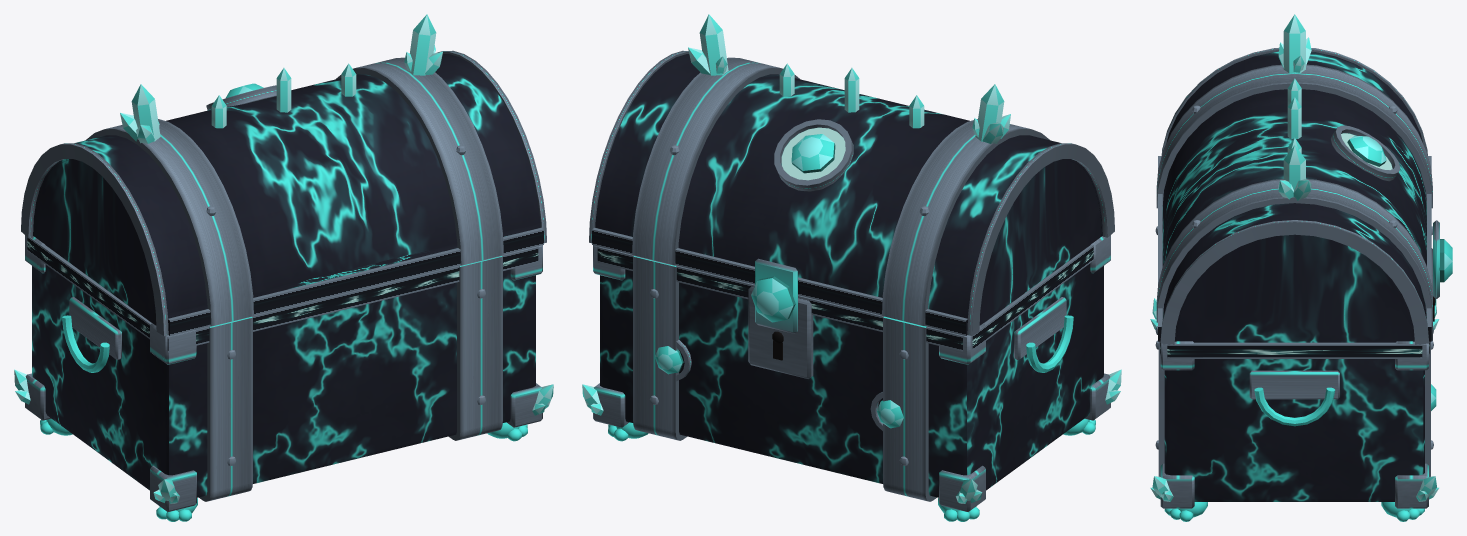
File: Chest_Secret.fbx
3 renders of one model, left to right at view 1: azimuth 30°, elevation 25°; view 2: azimuth 150°, elevation 25°; view 3: azimuth 270°, elevation 25°, orthographic. The views are drawn at different scales.
Visible parts, largest first — view 1: Lid, Base; view 2: Lid, Base; view 3: Lid, Base.
Part boxes in pixels (x1=…): Lid: x1=21, y1=14, x2=546, y2=335; Base: x1=14, y1=235, x2=553, y2=521; Lid: x1=589, y1=14, x2=1114, y2=335; Base: x1=582, y1=235, x2=1121, y2=521; Lid: x1=1156, y1=14, x2=1452, y2=344; Base: x1=1150, y1=226, x2=1439, y2=521.
Bounding box in the file's own units: 4.37 × 3.99 × 3.02.
Materials: 1 (1 with a texture image).
